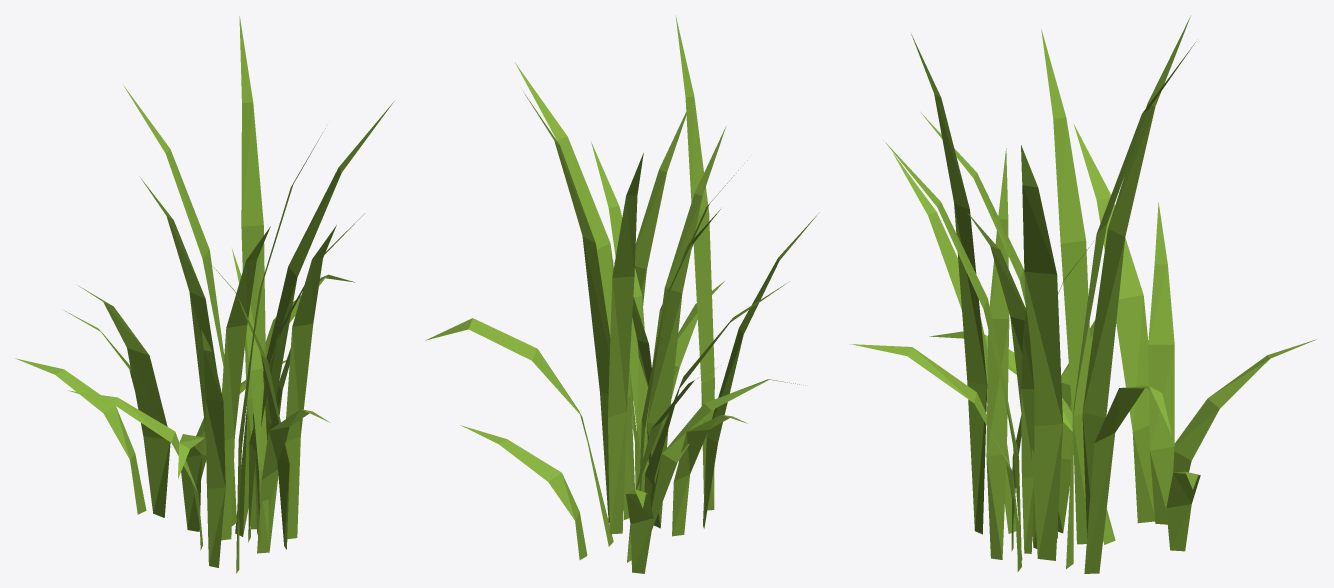
File: grass-middle-a.fbx
The picture shows the model from 3 angles, left to right: view 1: azimuth 30°, elevation 25°; view 2: azimuth 150°, elevation 25°; view 3: azimuth 270°, elevation 25°; orthographic projection. The views are drawn at different scales.
Visible parts, largest first — view 1: grass-middle-a; view 2: grass-middle-a; view 3: grass-middle-a.
Part boxes in pixels (x1,y1,x2,y2): grass-middle-a: (15, 16, 393, 573); grass-middle-a: (425, 15, 819, 573); grass-middle-a: (850, 16, 1316, 573).
Size of the model in its own units: 0.6196 by 0.8728 by 0.6627.
